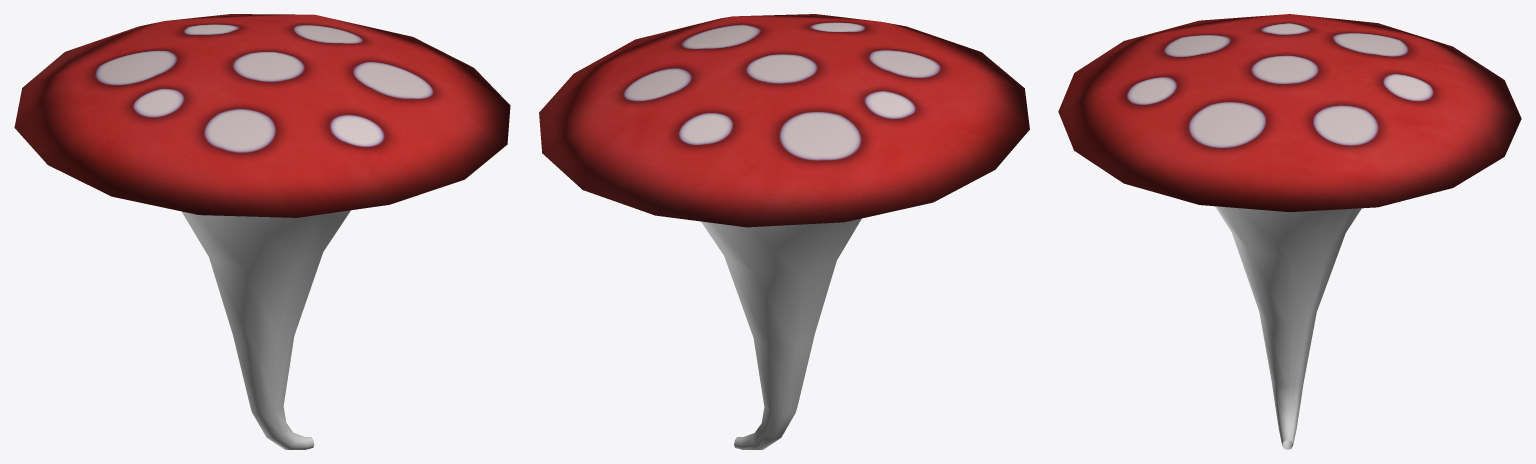
File: Mushroom_Curved2_Red.fbx
3 views of the same model, side by side, from view 1: azimuth 30°, elevation 25°; view 2: azimuth 150°, elevation 25°; view 3: azimuth 270°, elevation 25° (orthographic). The views are drawn at different scales.
Visible parts, largest first — view 1: Mesh; view 2: Mesh; view 3: Mesh.
Part boxes in pixels (x1=…): Mesh: x1=14, y1=14, x2=510, y2=449; Mesh: x1=539, y1=14, x2=1029, y2=449; Mesh: x1=1058, y1=14, x2=1521, y2=449.
Size of the model in its own units: 165 by 147 by 169.
